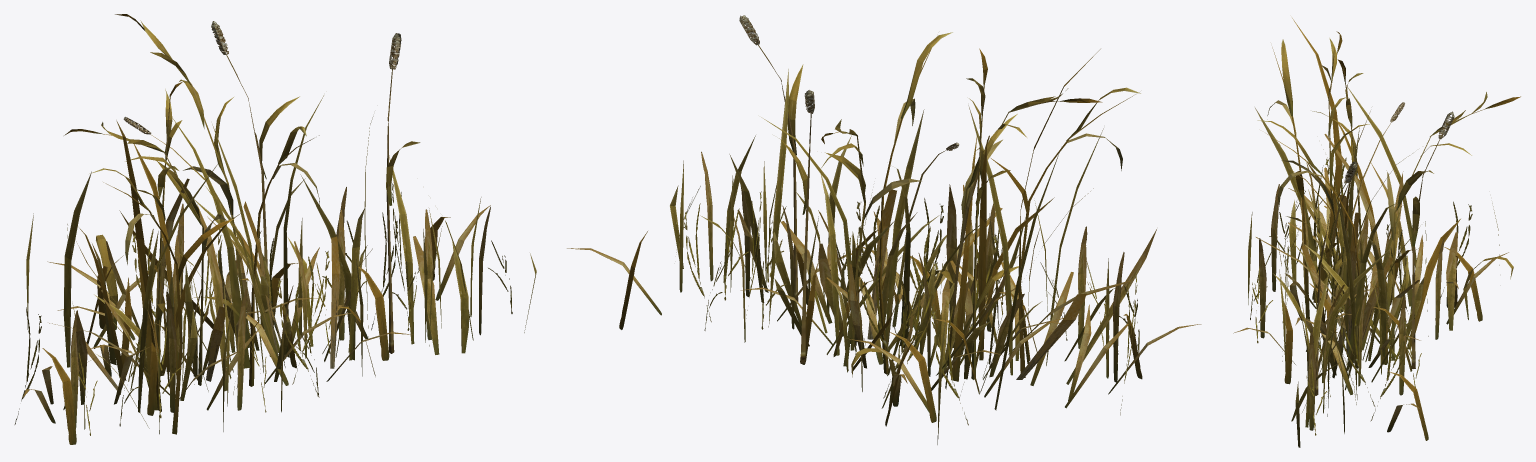
File: grass03.fbx
3 renders of one model, left to right at view 1: azimuth 30°, elevation 25°; view 2: azimuth 150°, elevation 25°; view 3: azimuth 270°, elevation 25°, orthographic. The views are drawn at different scales.
Parts seen in each view (by area): view 1: SM_COM_Grass02.mo; view 2: SM_COM_Grass02.mo; view 3: SM_COM_Grass02.mo.
Part boxes in pixels (box(x1,y1,x2,y2)): SM_COM_Grass02.mo: box(14, 14, 536, 444); SM_COM_Grass02.mo: box(567, 15, 1201, 444); SM_COM_Grass02.mo: box(1233, 18, 1520, 447).
Bounding box in the file's own units: 206 × 122 × 113.
